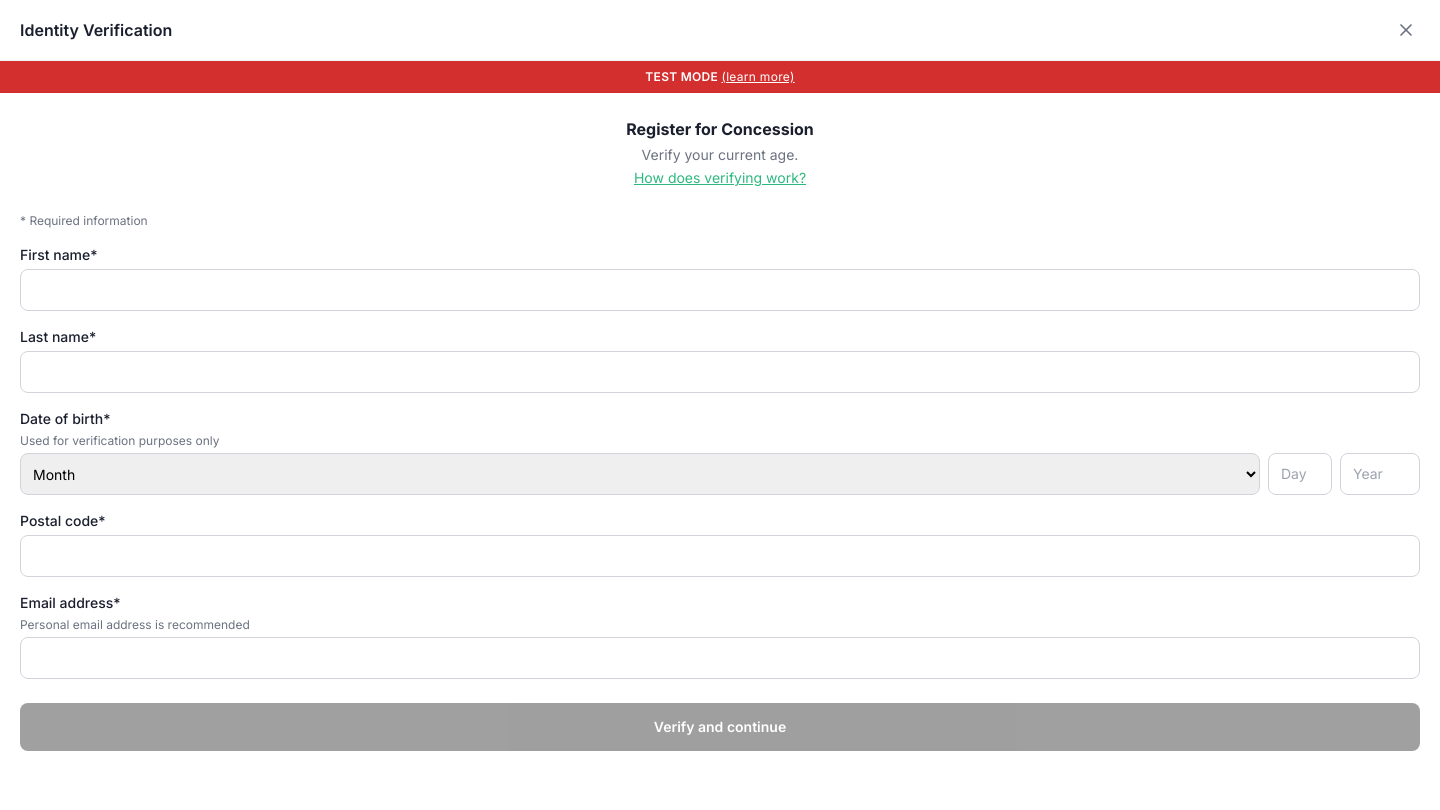
Test case: SheerIDModal › submitting form shows verified screen
Type "John" into the field labelled "First name*". click: (720, 290)
box: [20, 269, 1420, 311]
Type "Smith" into the field labelled "Last name*". click: (720, 372)
box: [20, 351, 1420, 393]
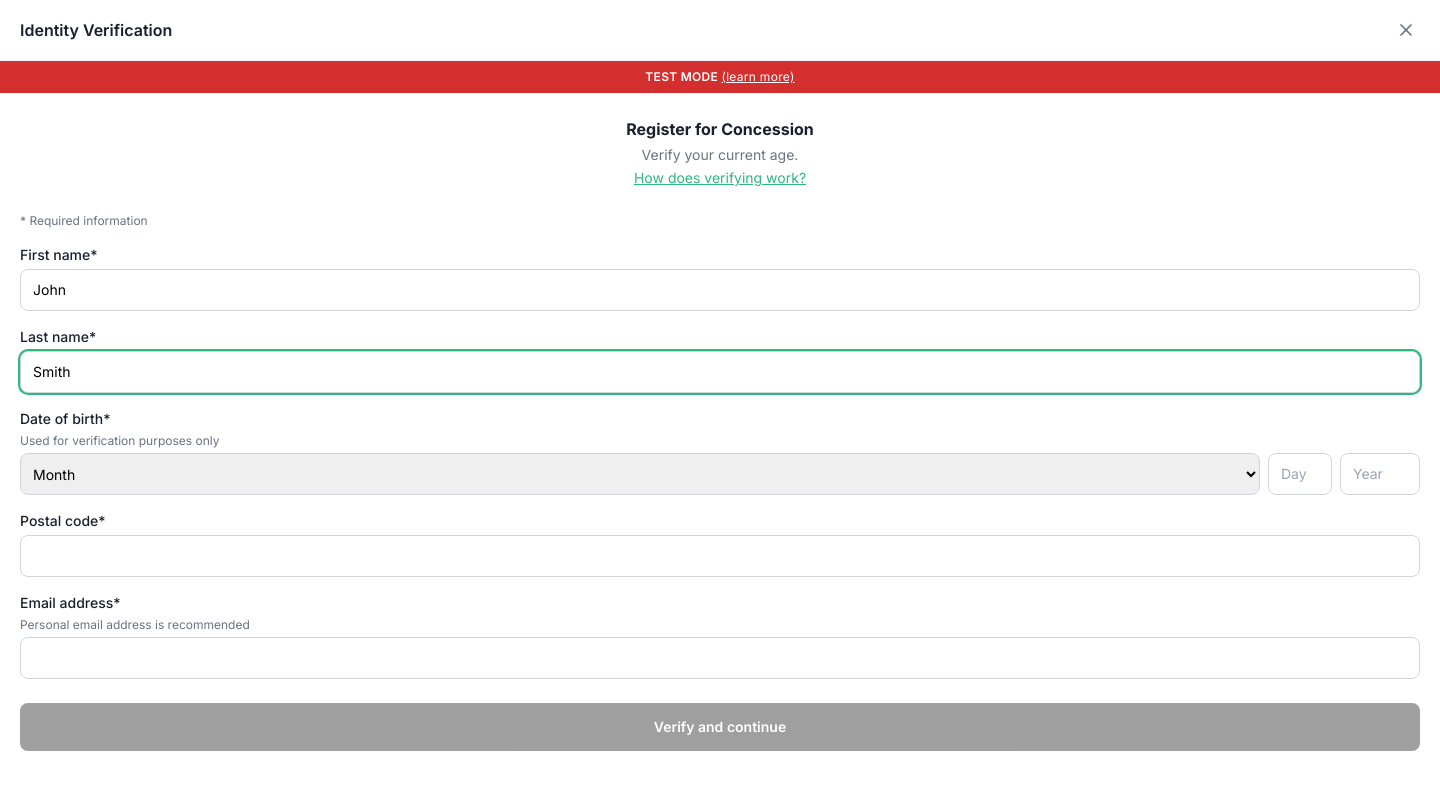
Select "January" in the dropdown named "month". click: (640, 474)
box: [20, 453, 1260, 495]
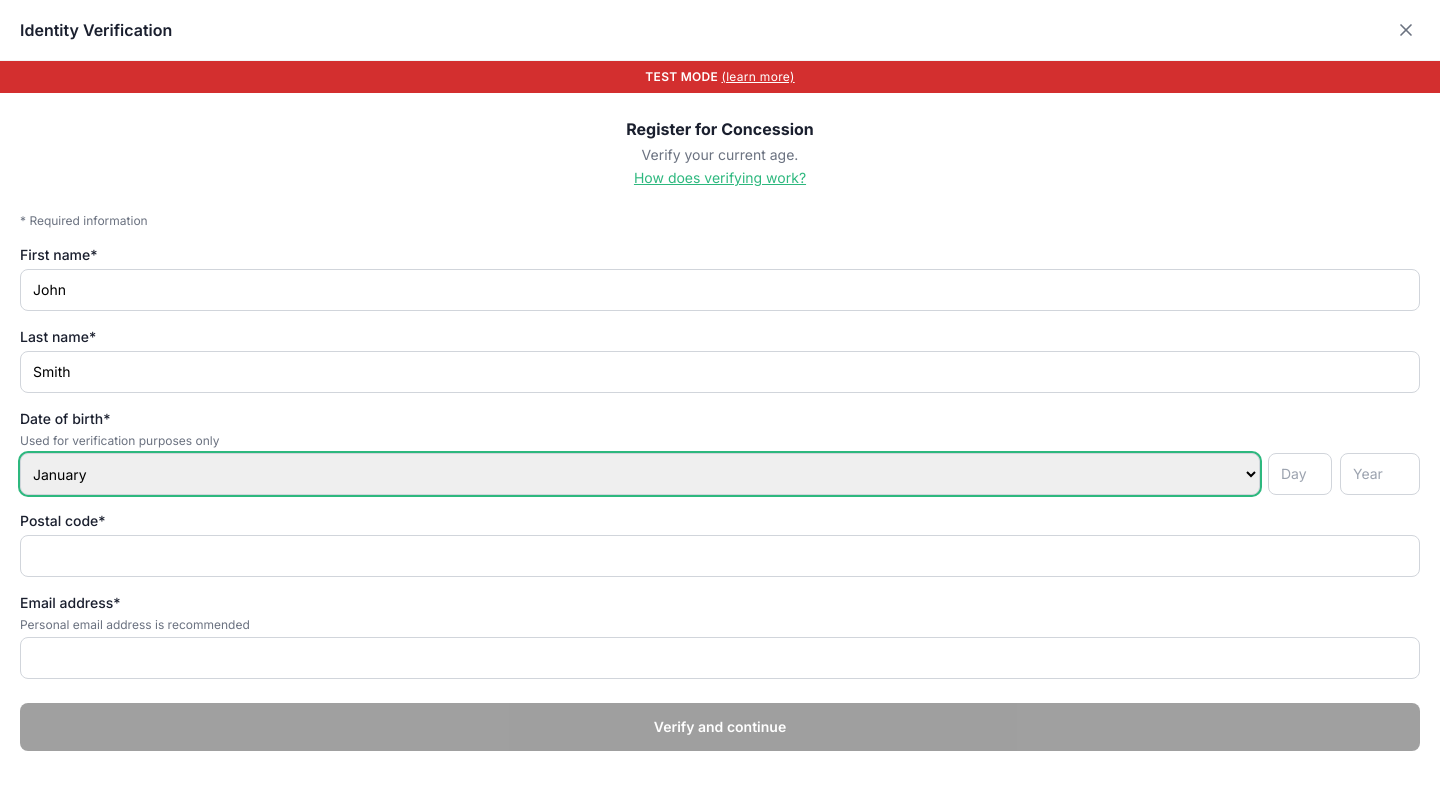
Type "15" into the field labelled "Day". click: (1300, 474)
box: [1268, 453, 1332, 495]
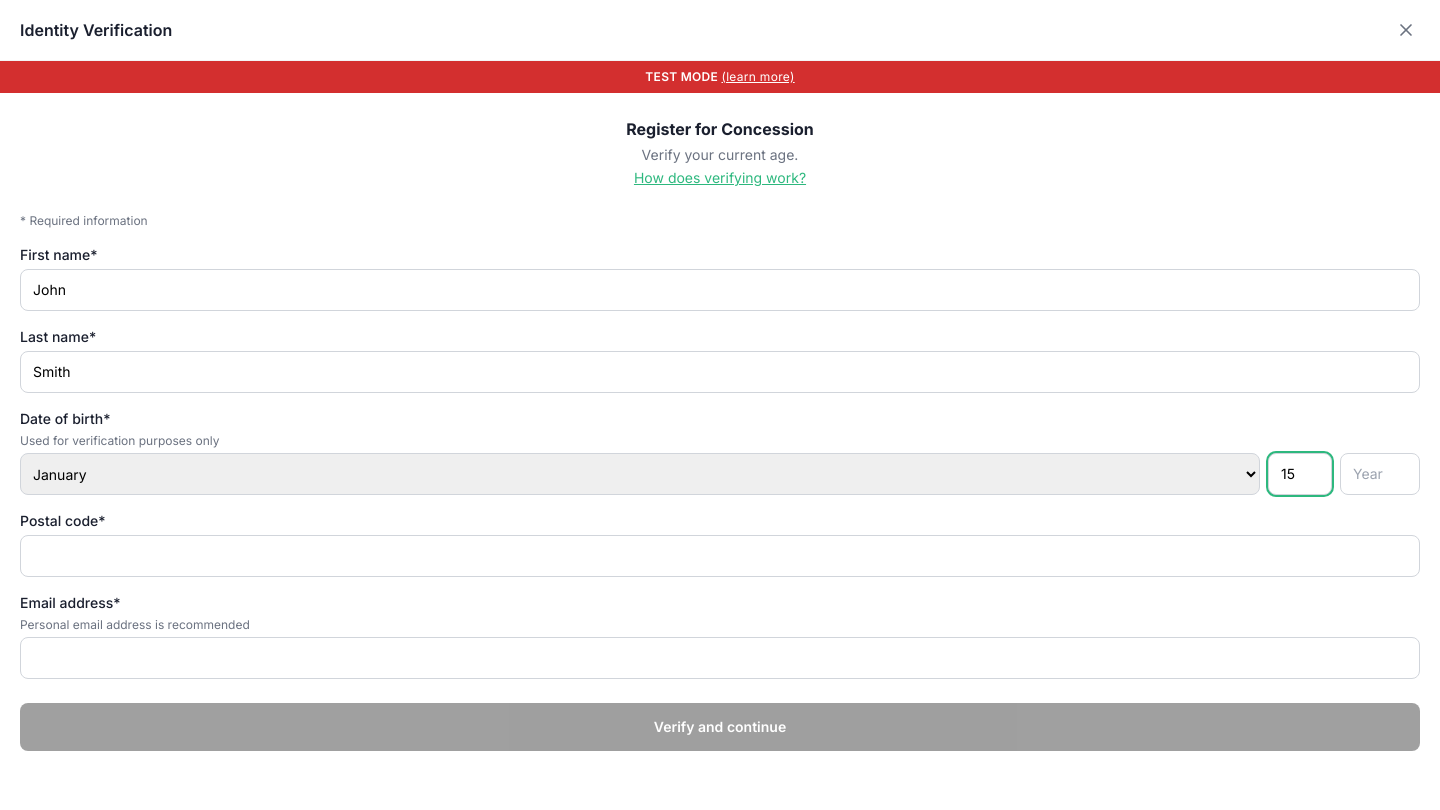
Type "1990" into the field labelled "Year". click: (1380, 474)
box: [1340, 453, 1420, 495]
Type "SW1A 1AA" into the field labelled "Postal code*". click: (720, 556)
box: [20, 535, 1420, 577]
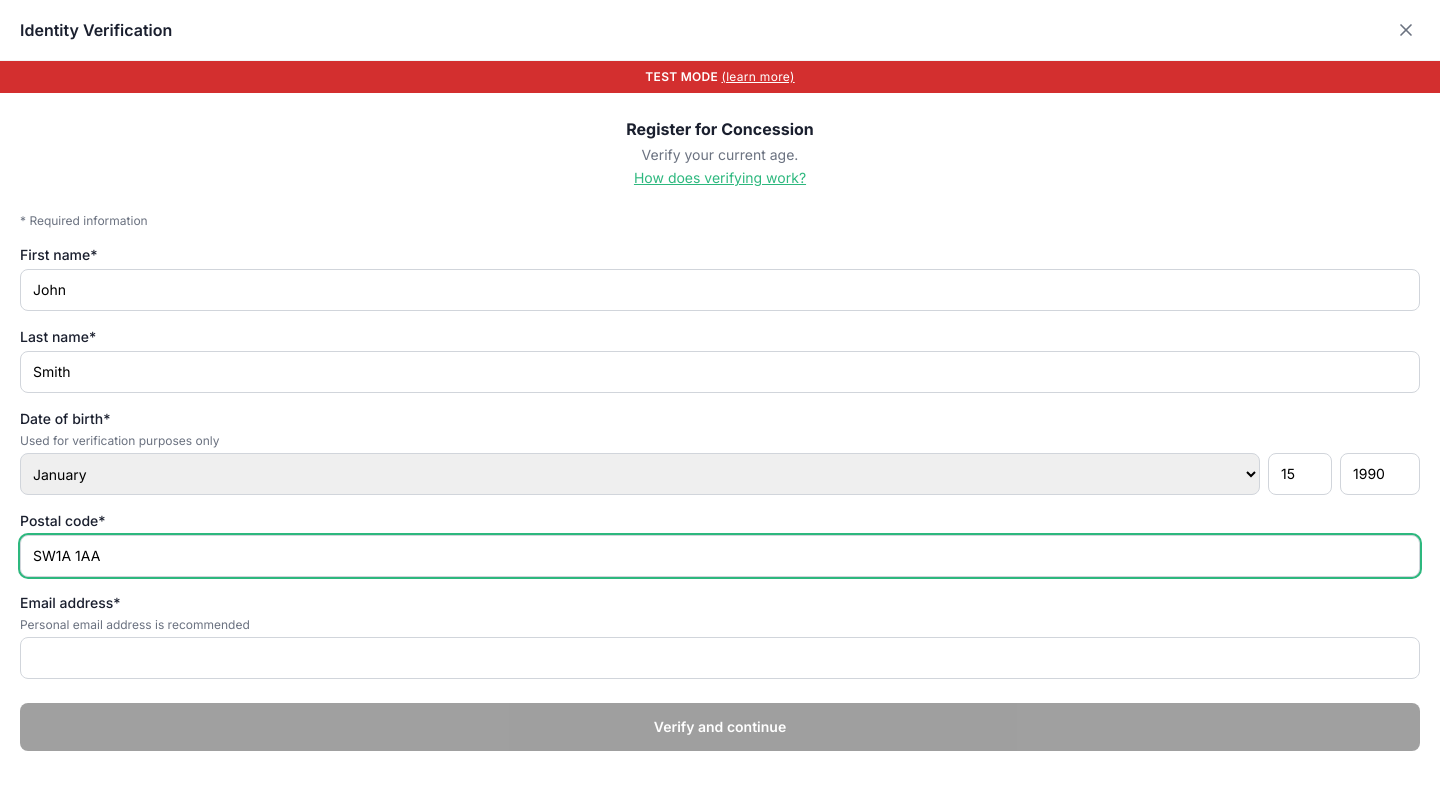
Type "john@example.com" into the field labelled "Email address*". click: (720, 658)
box: [20, 637, 1420, 679]
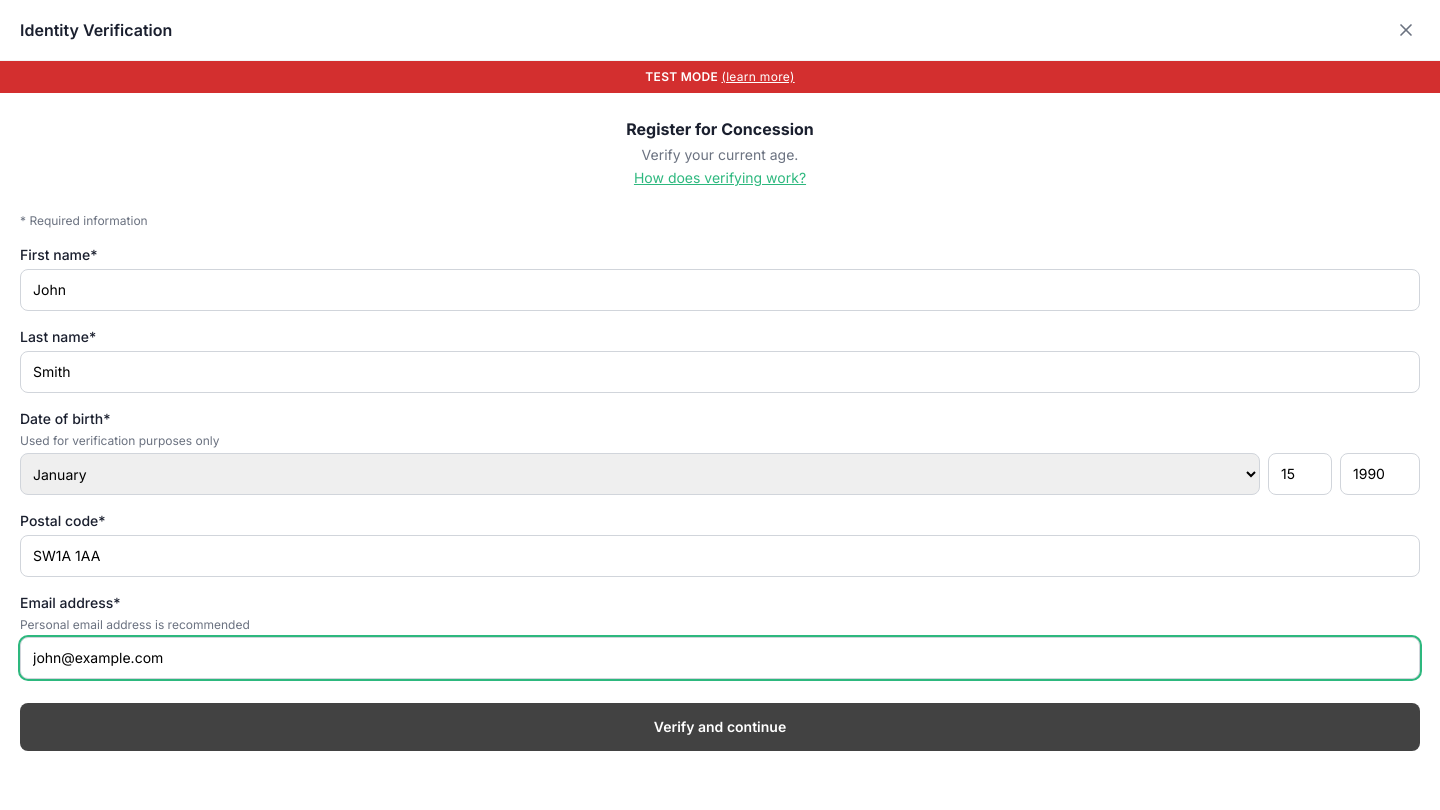
Click the button "Verify and continue". click: (720, 727)
box: [20, 703, 1420, 751]
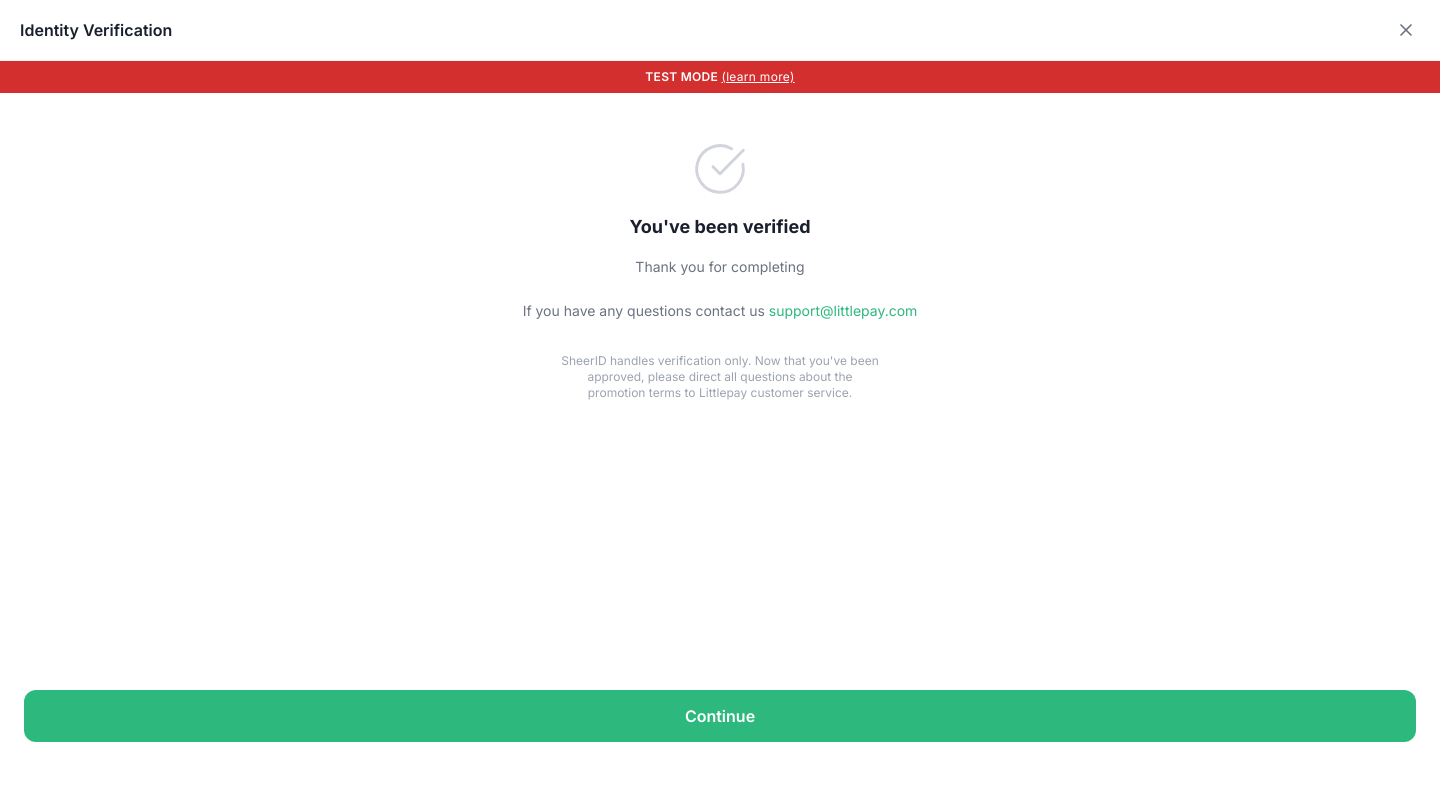
expect the heading "You've been verified" is shown: met, box [630, 213, 810, 241]
expect the label labelled "First name" is gone: met
